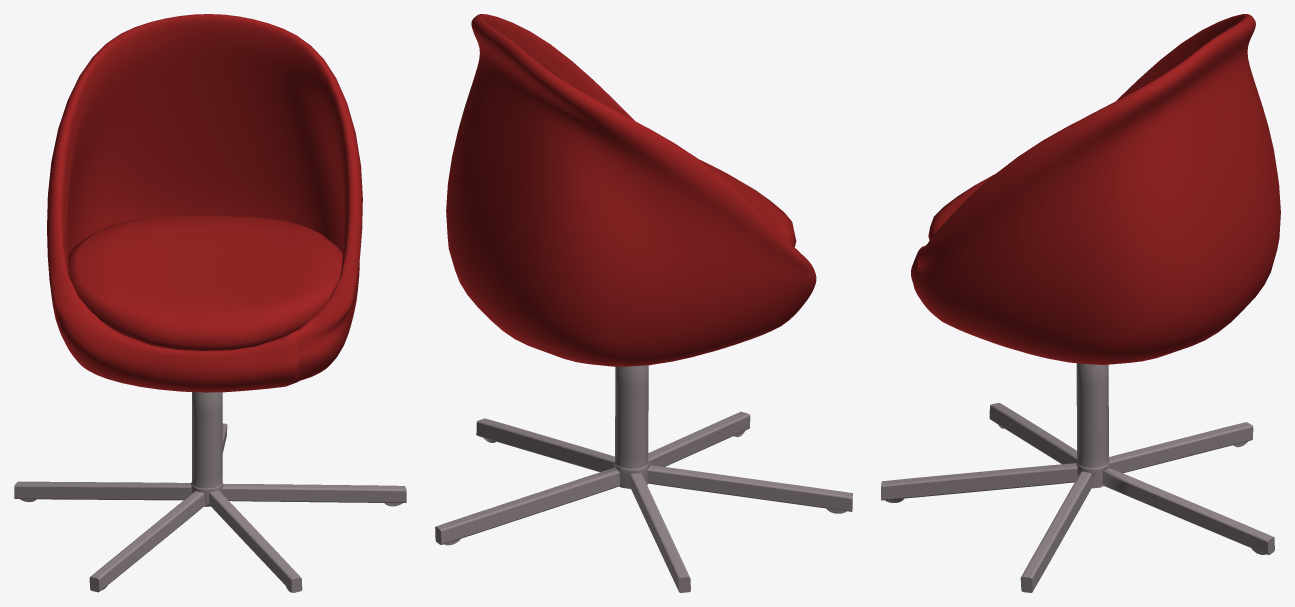
File: IKEA-Skruvsta_Swivel_Chair-3d.FBX
3 renders of one model, left to right at view 1: azimuth 30°, elevation 25°; view 2: azimuth 150°, elevation 25°; view 3: azimuth 270°, elevation 25°, orthographic. The views are drawn at different scales.
Visible parts, largest first — view 1: Box01; view 2: Box01; view 3: Box01.
Part boxes in pixels (x1,y1,x2,y2): Box01: (14, 14, 406, 592); Box01: (435, 14, 852, 592); Box01: (881, 14, 1280, 592).
Bounding box in the file's own units: 0.5294 × 0.5081 × 0.697.
